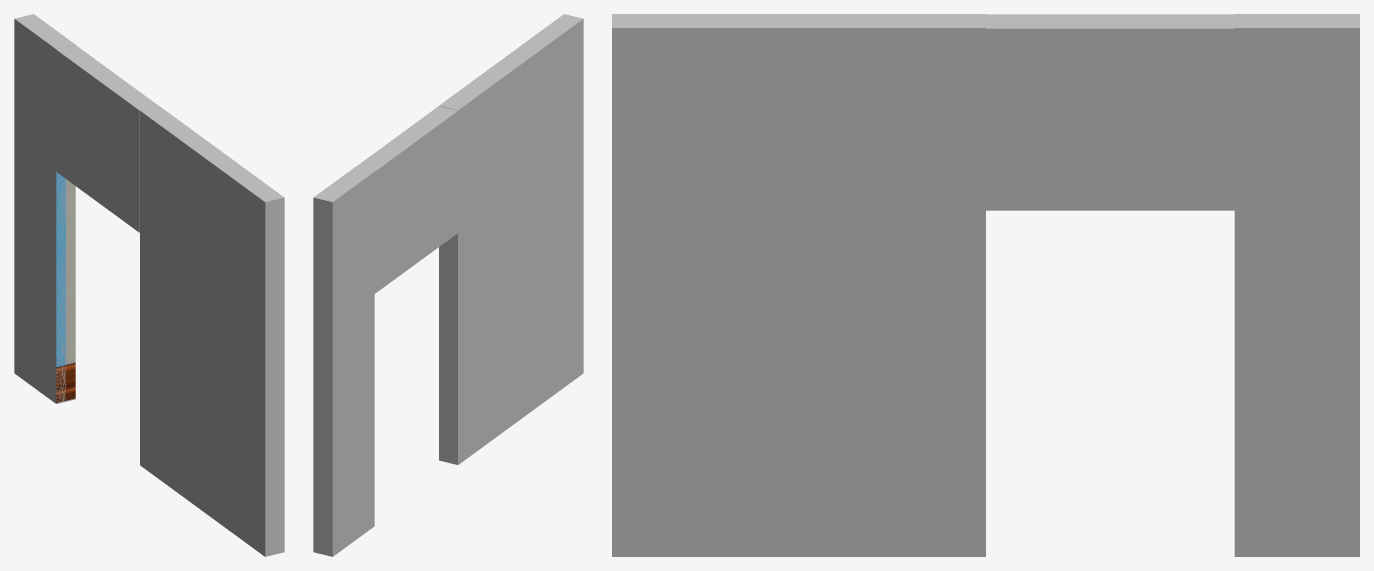
File: SM_M01WallDoorTypeA_2.fbx
3 views of the same model, side by side, from view 1: azimuth 30°, elevation 25°; view 2: azimuth 150°, elevation 25°; view 3: azimuth 270°, elevation 25° (orthographic). The views are drawn at different scales.
Parts seen in each view (by area): view 1: SM_M01WallDoorTypeA_2_ConvexHulls, SM_M01WallDoorTypeA_2; view 2: SM_M01WallDoorTypeA_2_ConvexHulls; view 3: SM_M01WallDoorTypeA_2_ConvexHulls.
Boxes of the visible parts, x1,y1,x2,y2 form: SM_M01WallDoorTypeA_2_ConvexHulls: [14, 14, 284, 556]; SM_M01WallDoorTypeA_2: [56, 172, 75, 402]; SM_M01WallDoorTypeA_2_ConvexHulls: [313, 14, 583, 556]; SM_M01WallDoorTypeA_2_ConvexHulls: [612, 14, 1359, 556].
Size of the model in its own units: 20.1 by 451 by 352.
Materials: 3 (2 with a texture image).
